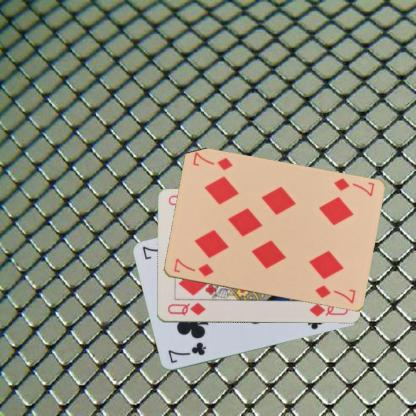7c: (166, 340, 208, 364)
7d: (330, 175, 376, 198), (171, 256, 214, 278)
Qd: (165, 300, 207, 317)
